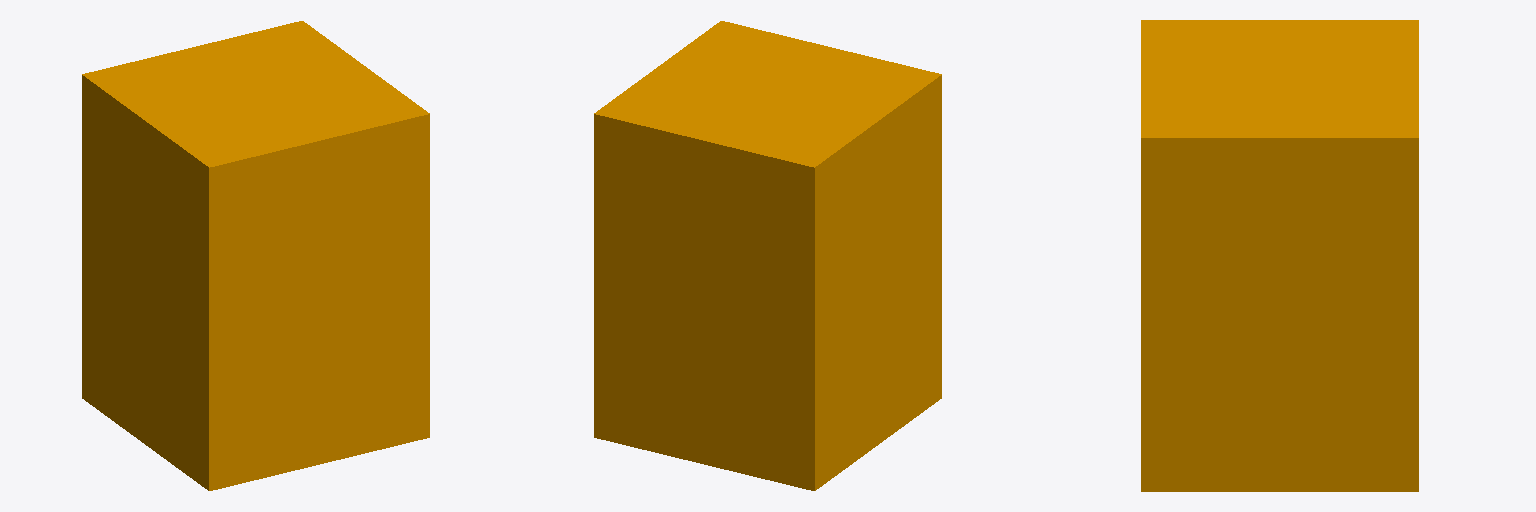
robot.urdf — box:
<?xml version="1.0" ?>
<robot name="box">
<link name="base">
    <inertial>
    <origin rpy="0 0 0" xyz="0 0 0"/>
    <mass value="10"/>
    <inertia ixx="0" ixy="0" ixz="0" iyy="0" iyz="0" izz="0"/>
    </inertial>
    <visual>
    <origin rpy="0 0 0" xyz="0 0 0.35"/>
    <geometry>
        <box size="0.5 0.5 0.7" />
    </geometry>
    </visual>
    <collision>
    <origin rpy="0 0 0" xyz="0 0 0.35"/>
    <geometry>
        <box size="0.5 0.5 0.7" />
    </geometry>
    </collision>
</link></robot>

--- Facts derived from the render (not from the file) ---
The picture shows the robot from 3 angles, left to right: view 1: azimuth 30°, elevation 25°; view 2: azimuth 150°, elevation 25°; view 3: azimuth 270°, elevation 25°; orthographic projection.
Model box with 1 links and 0 joints (none), rooted at base, posed every joint at zero.
Links seen in each view (by area): view 1: base; view 2: base; view 3: base.
Link boxes in pixels (bbox=[...]): base: bbox=[82, 21, 429, 490]; base: bbox=[594, 21, 941, 490]; base: bbox=[1141, 20, 1418, 491].
Bounding box of the posed robot: 0.5 × 0.5 × 0.7 m (x, y, z).
Geometry: primitives only (box / cylinder / sphere), no mesh files.